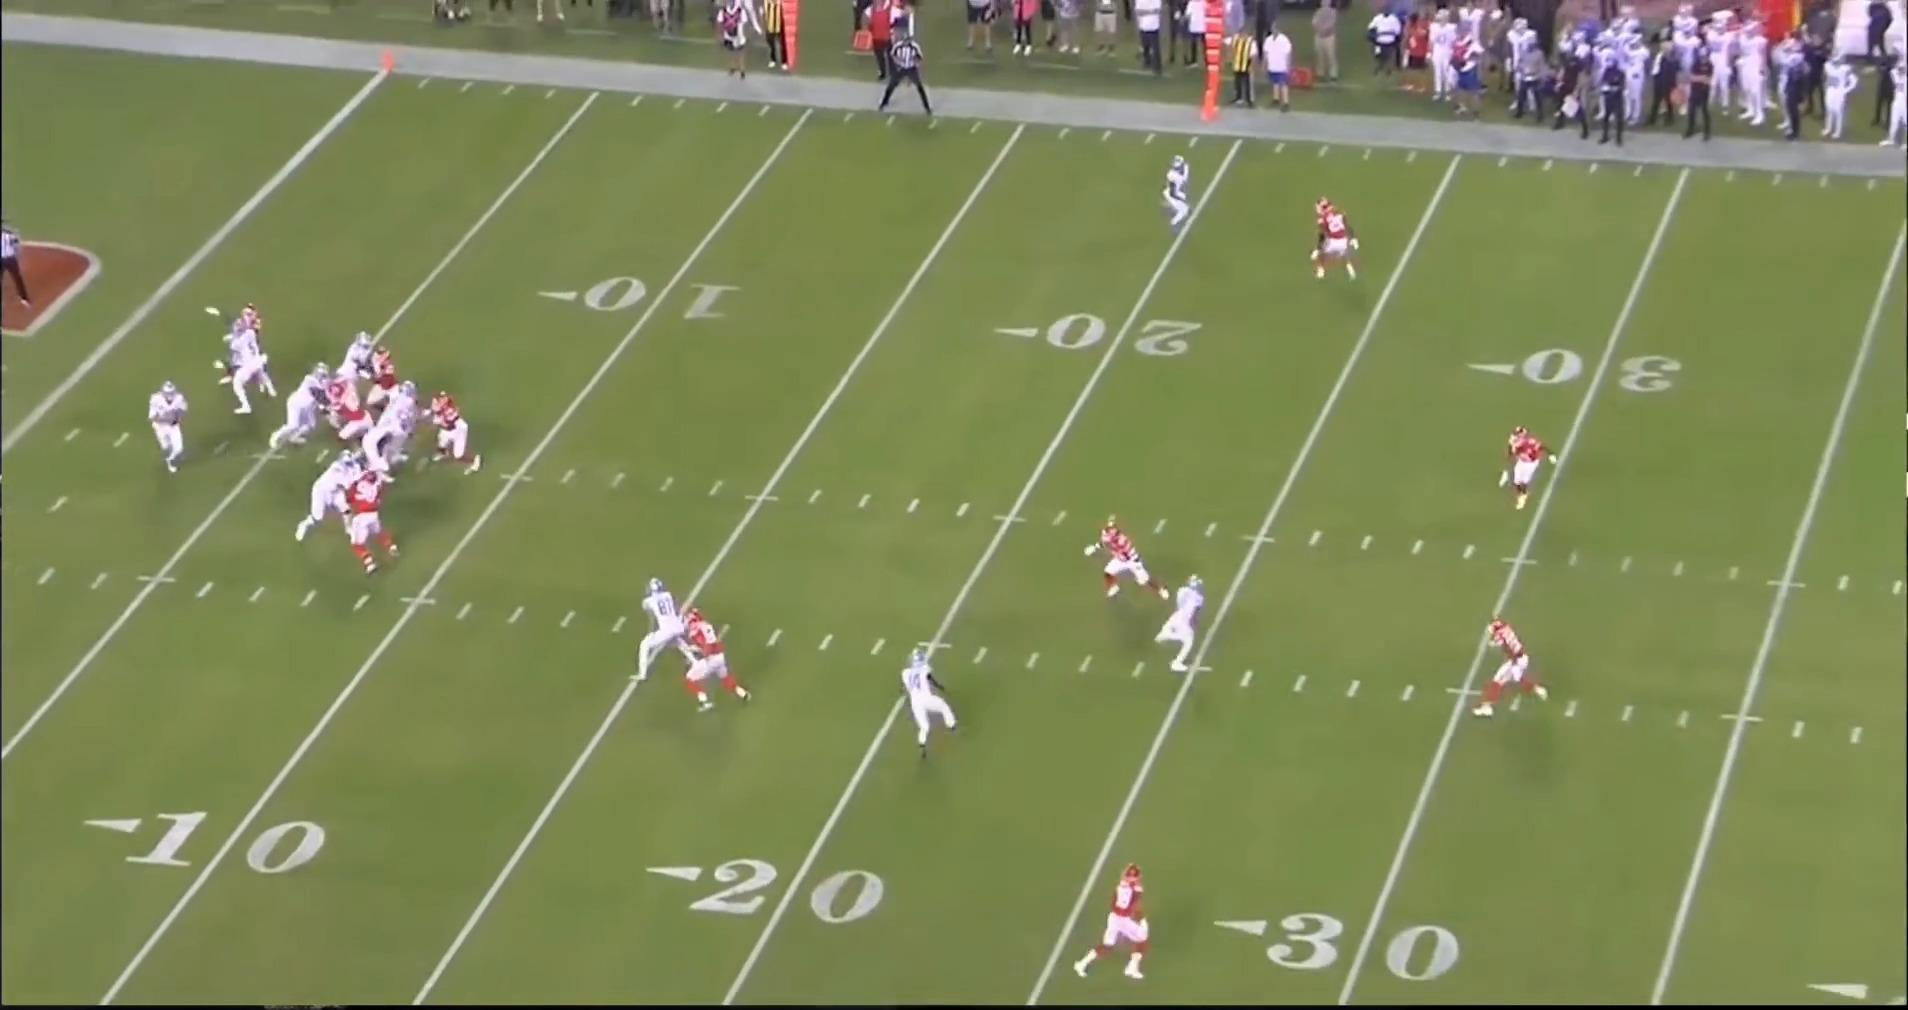player: (1067, 860, 1154, 982), (1473, 620, 1552, 723), (631, 579, 701, 692), (902, 644, 968, 762), (681, 605, 754, 711), (1079, 520, 1166, 607), (266, 361, 339, 455), (297, 453, 364, 546), (1161, 572, 1222, 673), (343, 472, 398, 578), (1310, 192, 1369, 282), (1507, 422, 1563, 515), (413, 389, 476, 471), (142, 376, 192, 475), (227, 320, 276, 413), (332, 379, 379, 460), (218, 303, 262, 387), (368, 378, 433, 434), (1165, 157, 1206, 245), (363, 412, 414, 473), (333, 329, 375, 402), (365, 340, 407, 412)
ref: (869, 30, 932, 118), (0, 210, 38, 313)
